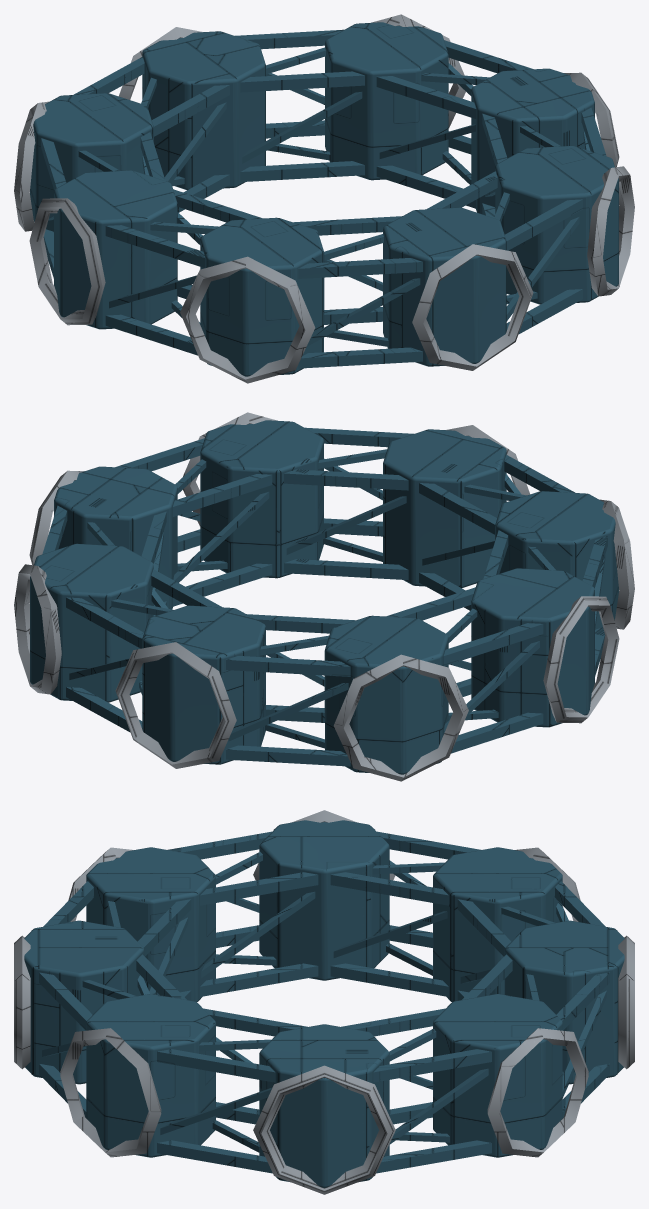
The model's file is truss_octagonal_hub_lod2.glb.
The picture shows the model from 3 angles, top to bottom: view 1: azimuth 30°, elevation 25°; view 2: azimuth 150°, elevation 25°; view 3: azimuth 270°, elevation 25°; orthographic projection.
Parts seen in each view (by area): view 1: LOD2_Armor, LOD2_BrushedMetal; view 2: LOD2_Armor, LOD2_BrushedMetal; view 3: LOD2_Armor, LOD2_BrushedMetal.
Boxes of the visible parts, x1,y1,x2,y2 form: LOD2_Armor: (30,22,618,376); LOD2_BrushedMetal: (14,14,634,383); LOD2_Armor: (30,420,618,774); LOD2_BrushedMetal: (14,412,634,781); LOD2_Armor: (24,820,624,1187); LOD2_BrushedMetal: (14,810,634,1194).
Size of the model in its own units: 7.09 by 1.63 by 7.09.
Materials: 2 (2 with a texture image).
